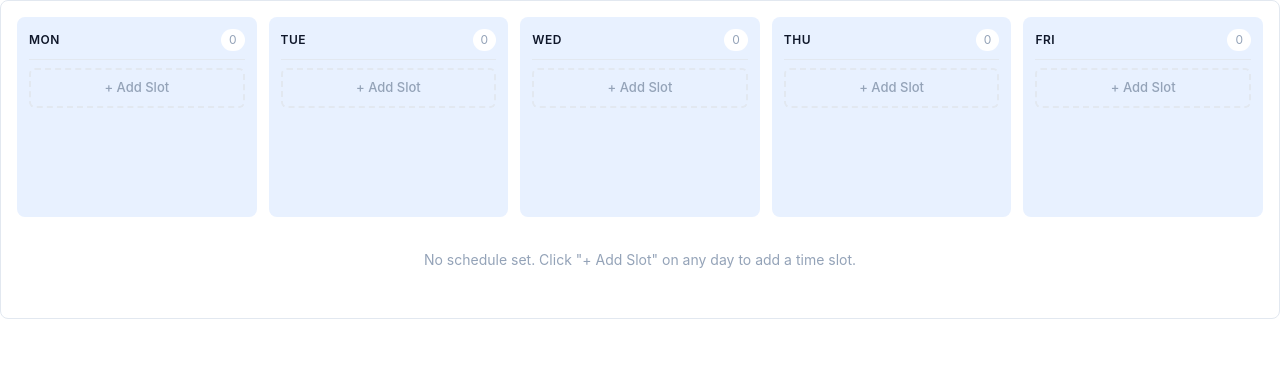
Test: SchedulePicker › adds a slot and shows it in the day column
Click the button "+ Add Slot" below "Mon": (137, 88) [29,68,245,108]
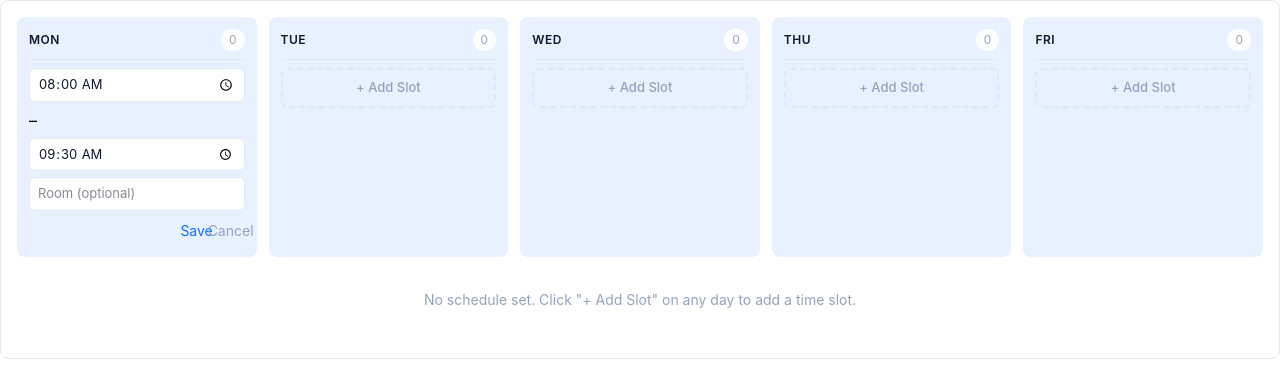
Click the button "Save": (197, 231) [183,217,211,245]
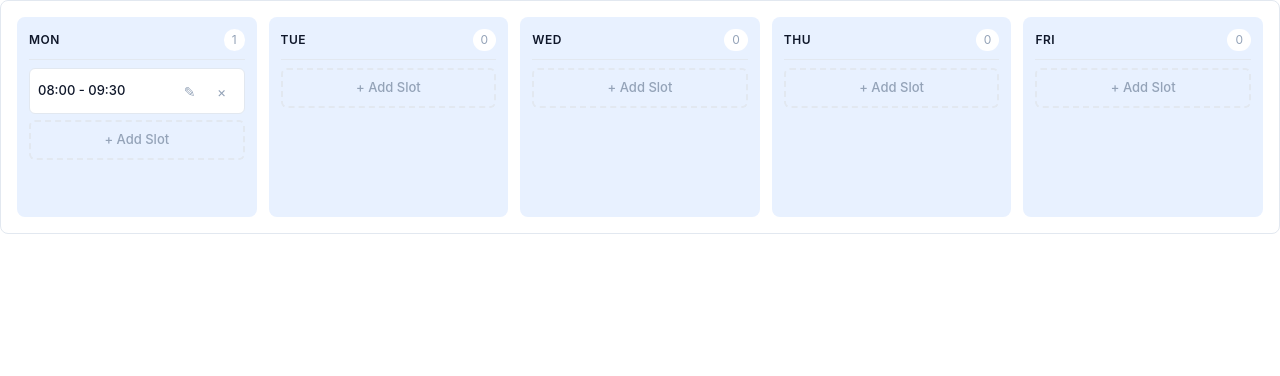
Result: the text "No schedule set" is gone
